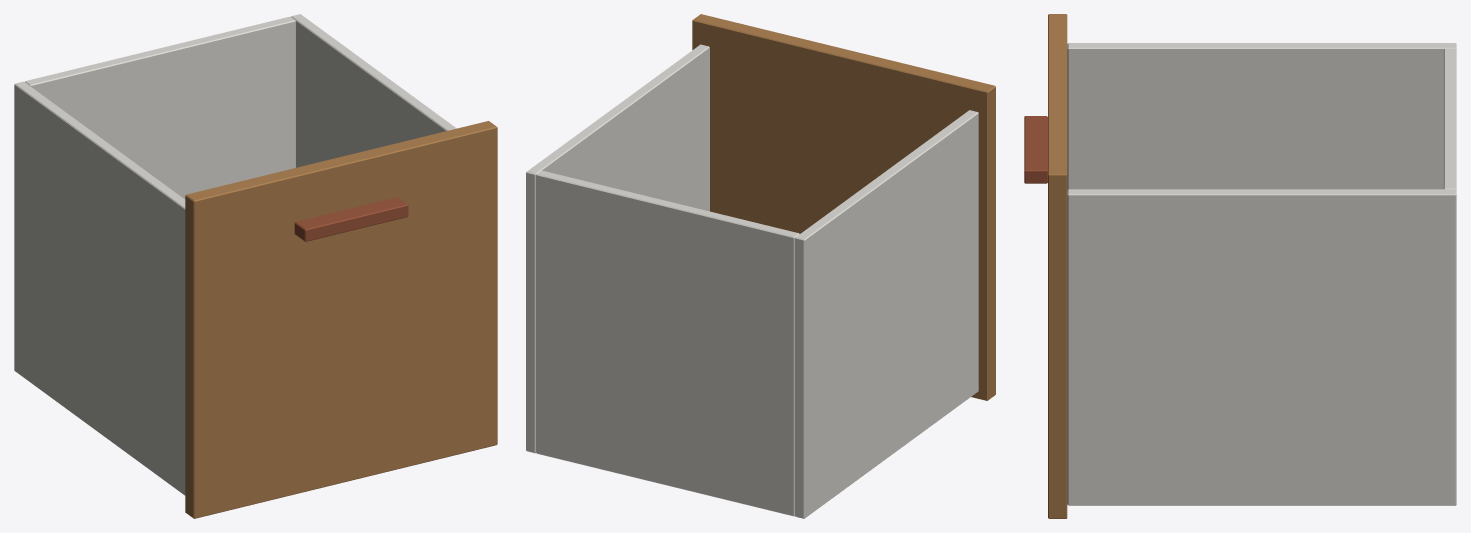
Rendered from cube_shelf_drawer_insert_drawer.glb.
3 renders of one model, left to right at view 1: azimuth 30°, elevation 25°; view 2: azimuth 150°, elevation 25°; view 3: azimuth 270°, elevation 25°, orthographic. The views are drawn at different scales.
Parts seen in each view (by area): view 1: cube_shelf_drawer_insert_drawer.001; view 2: cube_shelf_drawer_insert_drawer.001; view 3: cube_shelf_drawer_insert_drawer.001.
Part boxes in pixels (x1=…): cube_shelf_drawer_insert_drawer.001: x1=14, y1=14, x2=497, y2=518; cube_shelf_drawer_insert_drawer.001: x1=526, y1=14, x2=995, y2=518; cube_shelf_drawer_insert_drawer.001: x1=1024, y1=14, x2=1456, y2=518.
Bounding box in the file's own units: 0.352 × 0.352 × 0.4.
